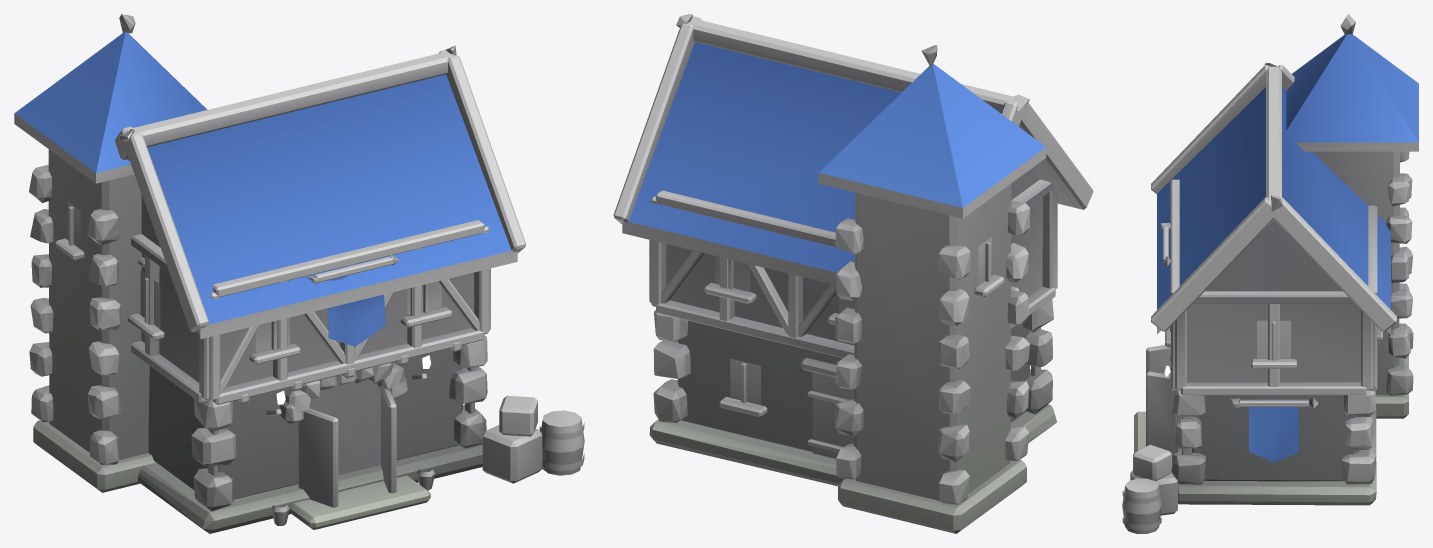
Rendered from barracks_0_3.glb.
3 renders of one model, left to right at view 1: azimuth 30°, elevation 25°; view 2: azimuth 150°, elevation 25°; view 3: azimuth 270°, elevation 25°, orthographic. The views are drawn at different scales.
Visible parts, largest first — view 1: Tower; view 2: Tower; view 3: Tower.
Part boxes in pixels (<box>): Tower: <box>14,14,584,533</box>; Tower: <box>613,14,1093,533</box>; Tower: <box>1122,14,1418,533</box>.
Bounding box in the file's own units: 4.01 × 4.22 × 2.97.
